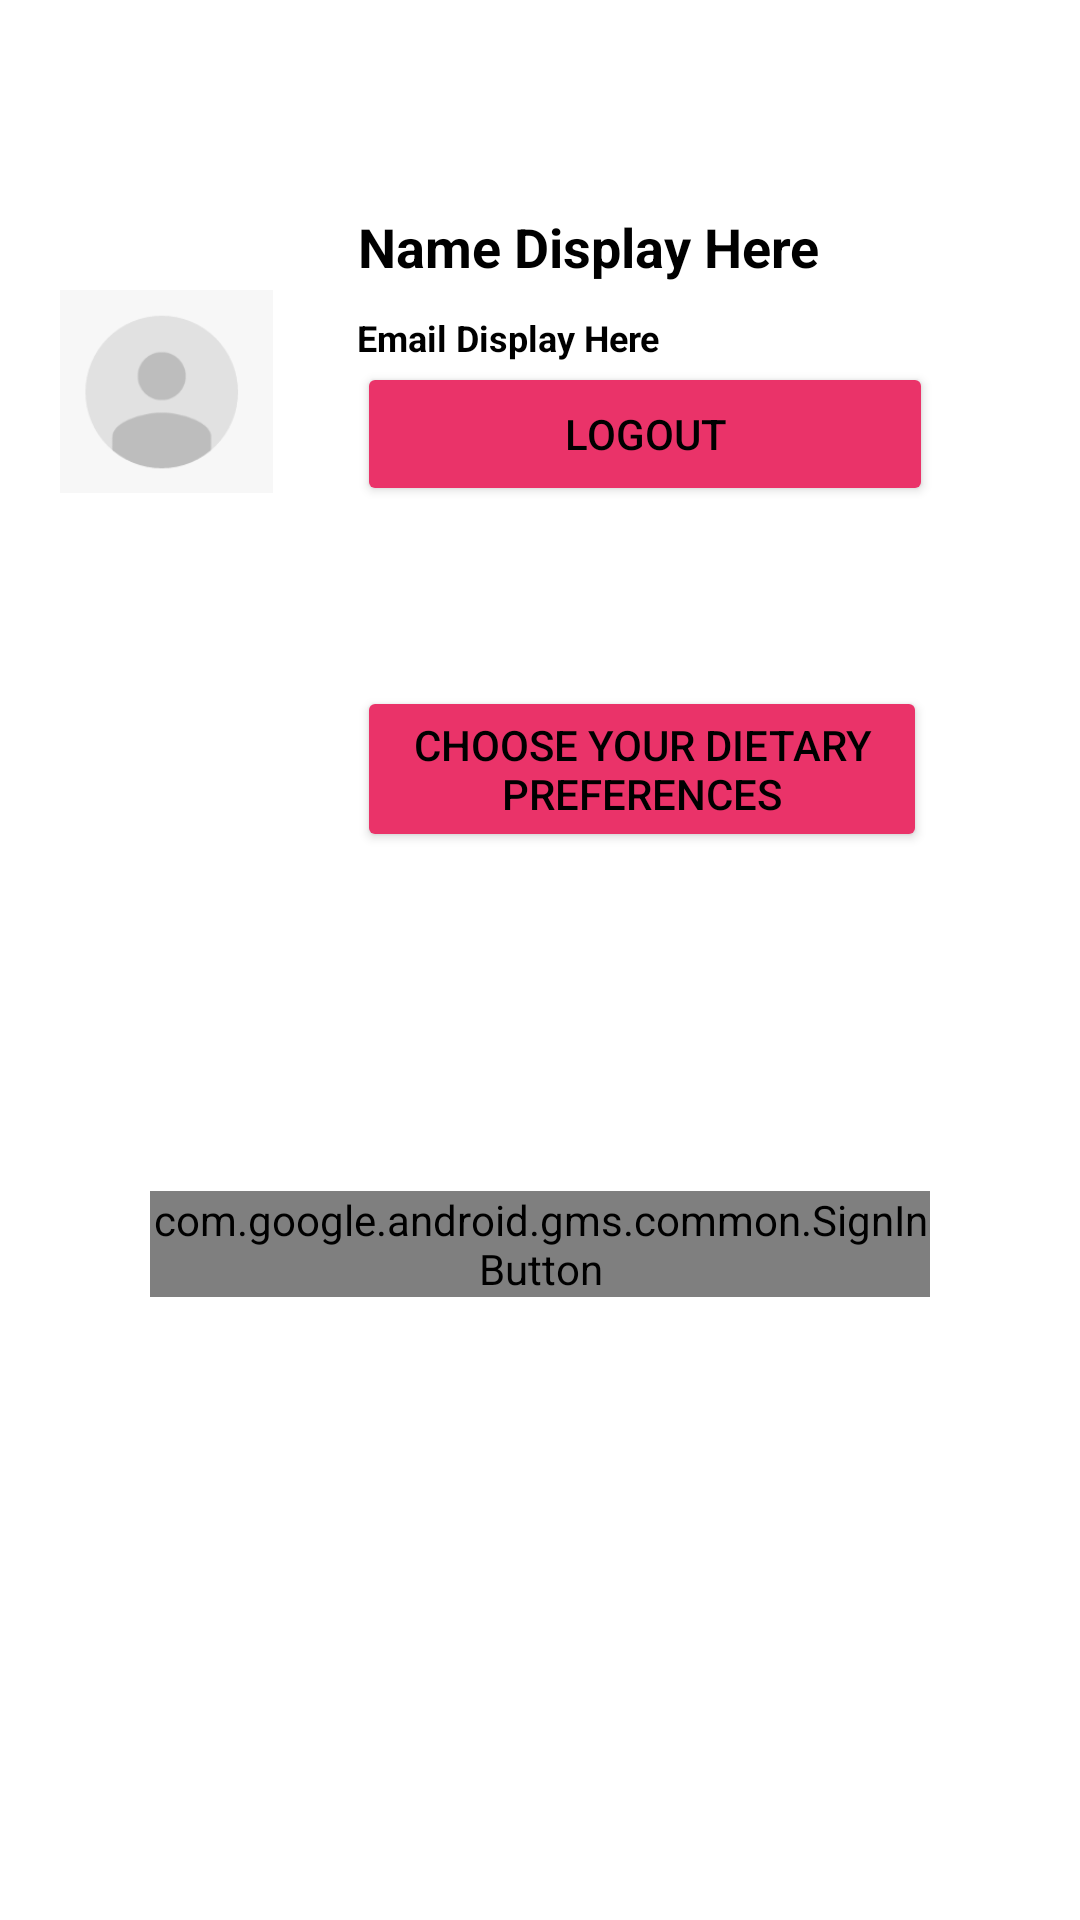

Named icons in this screenshot (1080 × 1920) and their bounding boxes, (x1, y1, x2, y2):
photo: (86, 316, 238, 469)
